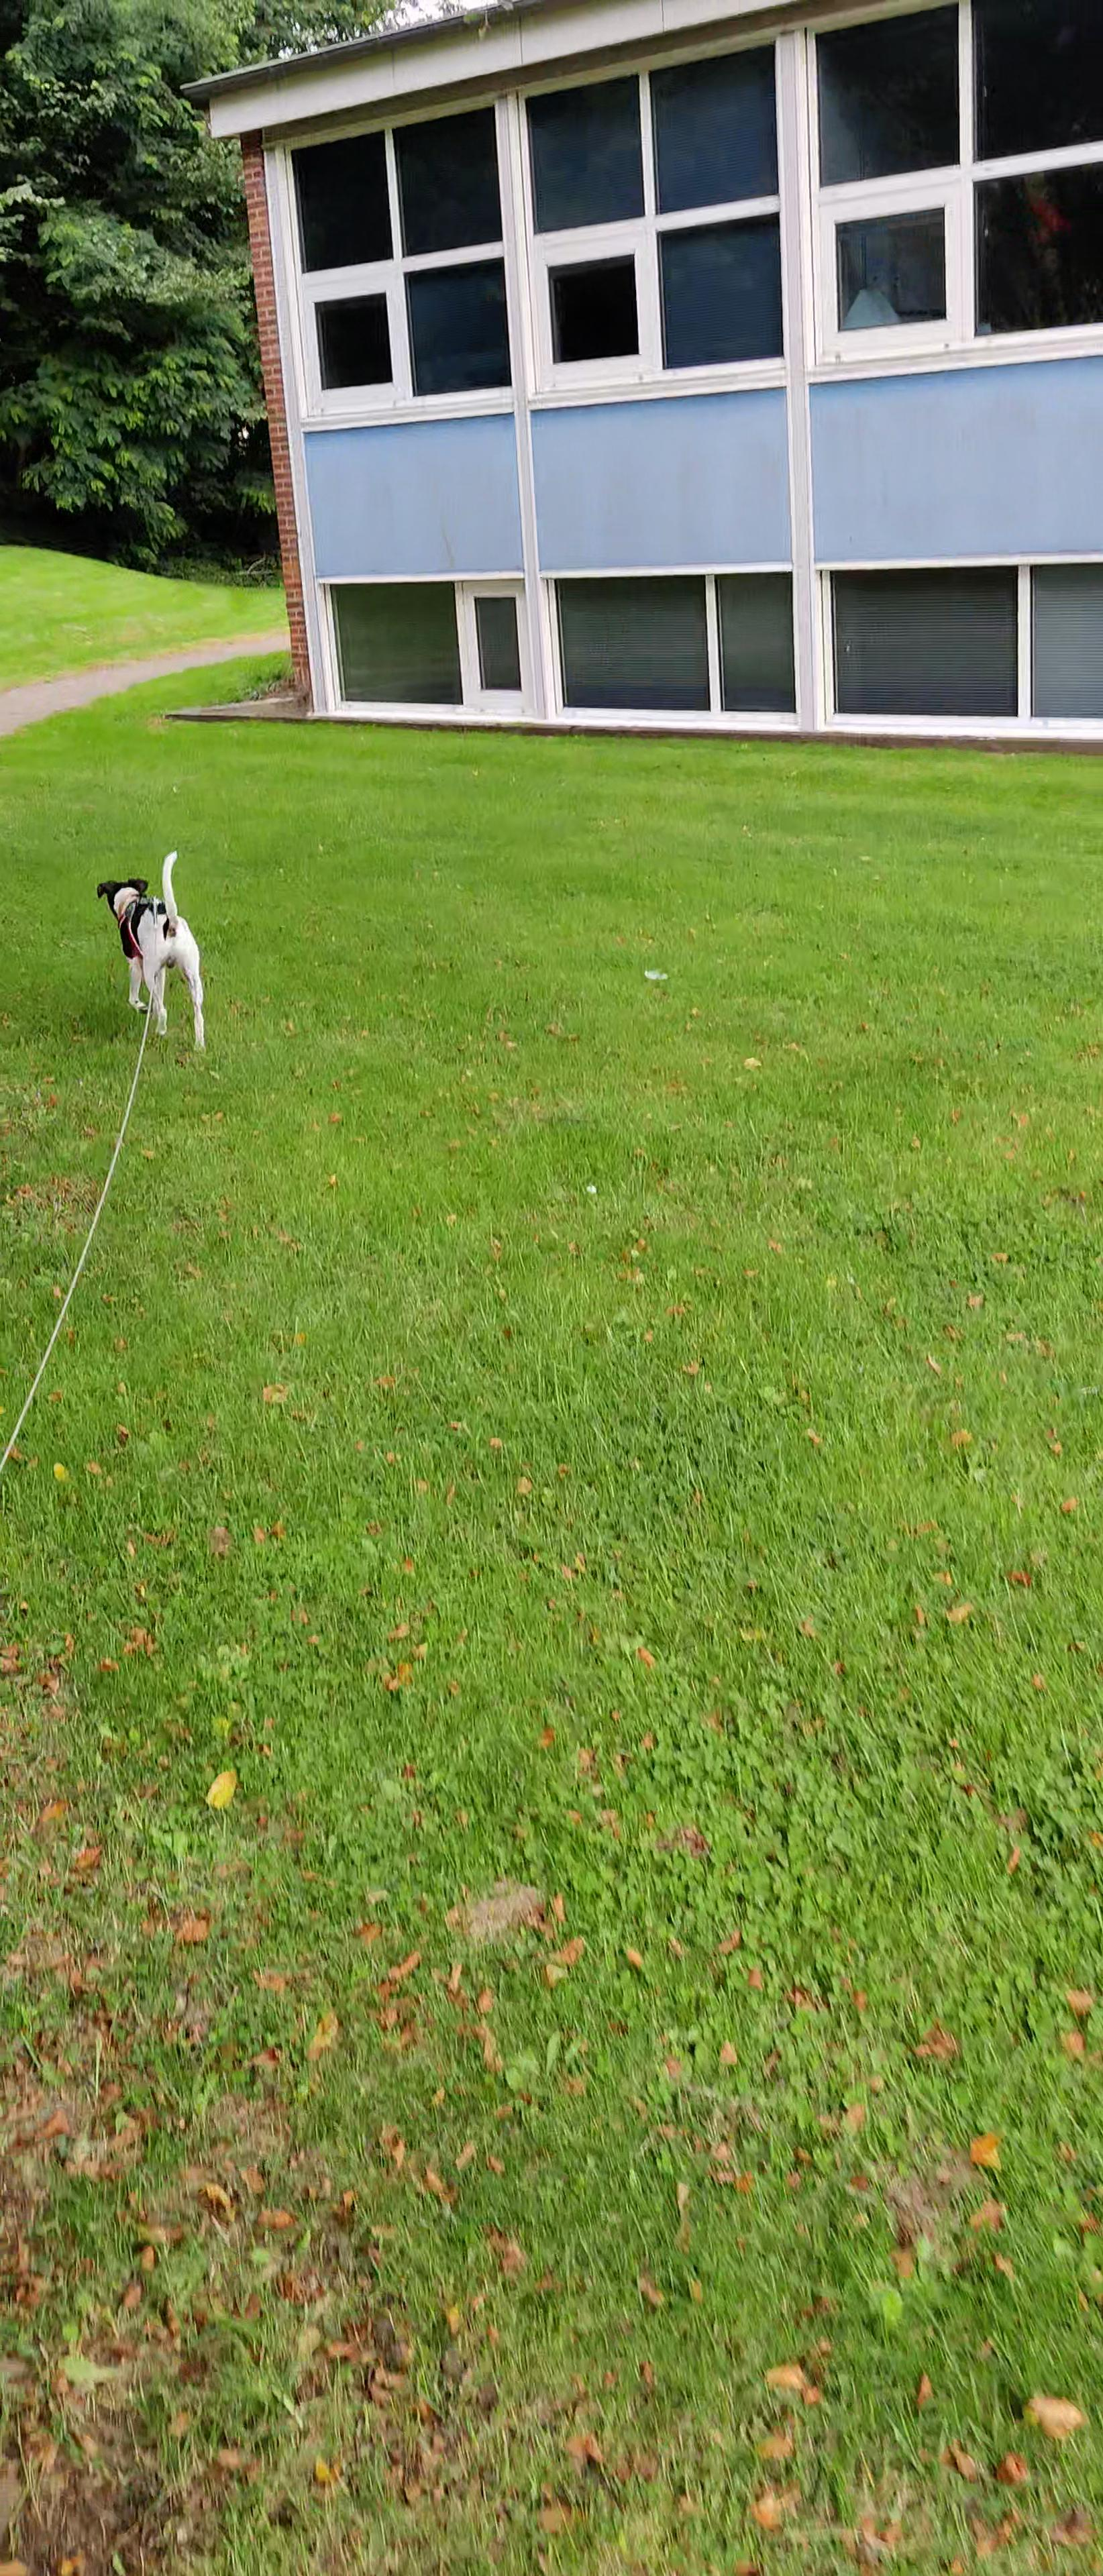Dog: (87, 838, 215, 1056)
